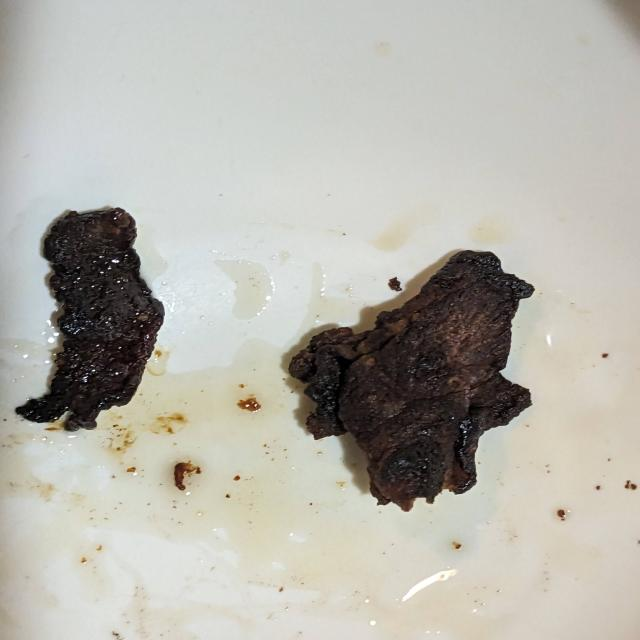overcooked pork: (265, 236, 554, 515), (9, 199, 182, 441)
